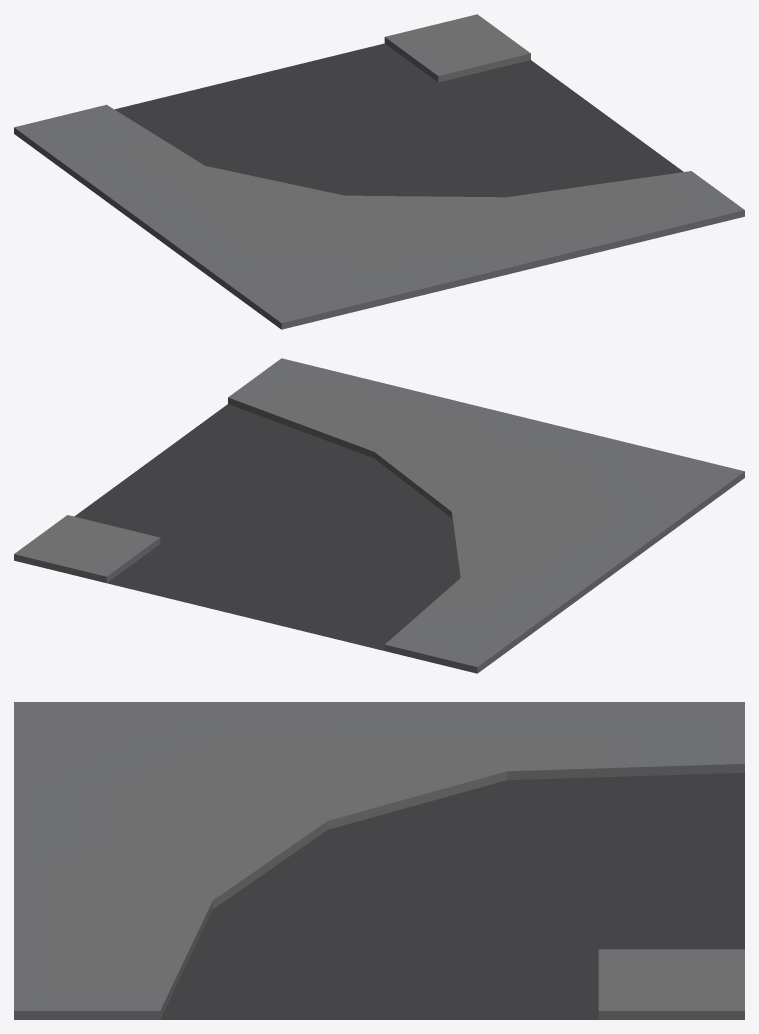
Rendered from Turn2.fbx.
The picture shows the model from 3 angles, top to bottom: view 1: azimuth 30°, elevation 25°; view 2: azimuth 150°, elevation 25°; view 3: azimuth 270°, elevation 25°; orthographic projection. The views are drawn at different scales.
Visible parts, largest first — view 1: Turn2; view 2: Turn2; view 3: Turn2.
Part boxes in pixels (<box>): Turn2: <box>14,14,744,329</box>; Turn2: <box>14,358,744,673</box>; Turn2: <box>14,702,744,1019</box>.
Size of the model in its own units: 1000 by 13.49 by 1000.
